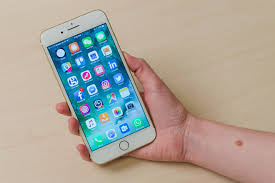iphone: (38, 5, 159, 165)
iphone7: (37, 6, 158, 166)
